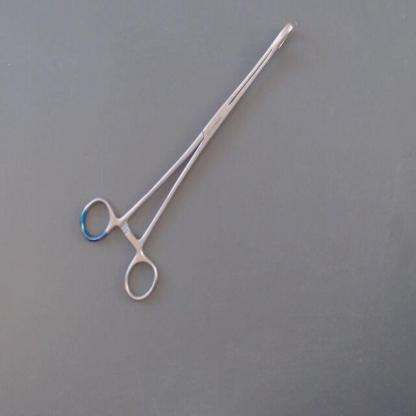Sponge Forceps: (72, 9, 306, 310)
